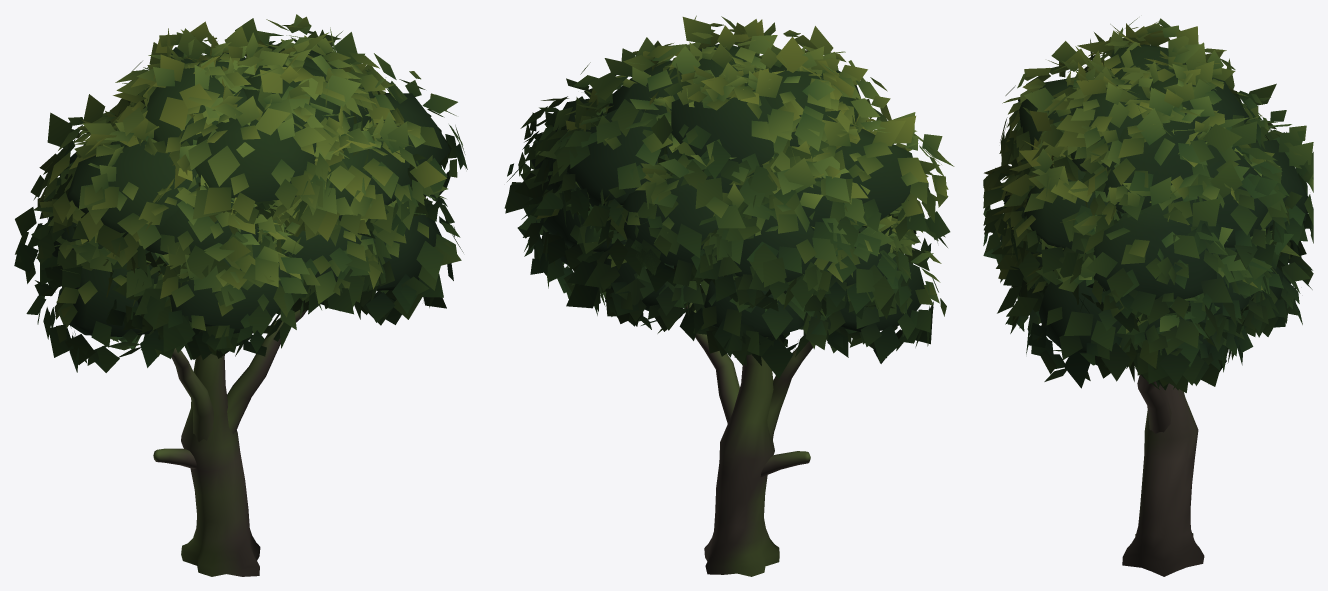
The model's file is oak_b.glb.
3 views of the same model, side by side, from view 1: azimuth 30°, elevation 25°; view 2: azimuth 150°, elevation 25°; view 3: azimuth 270°, elevation 25° (orthographic). The views are drawn at different scales.
Parts seen in each view (by area): view 1: Foliage, Trunk; view 2: Foliage, Trunk; view 3: Foliage, Trunk.
Part boxes in pixels (x1,y1,x2,y2): Foliage: (14,14,467,372); Trunk: (153,309,306,576); Foliage: (504,15,954,378); Trunk: (685,302,812,576); Foliage: (983,18,1313,392); Trunk: (1122,374,1204,576).
Bounding box in the file's own units: 9.5 × 11.99 × 6.95.
